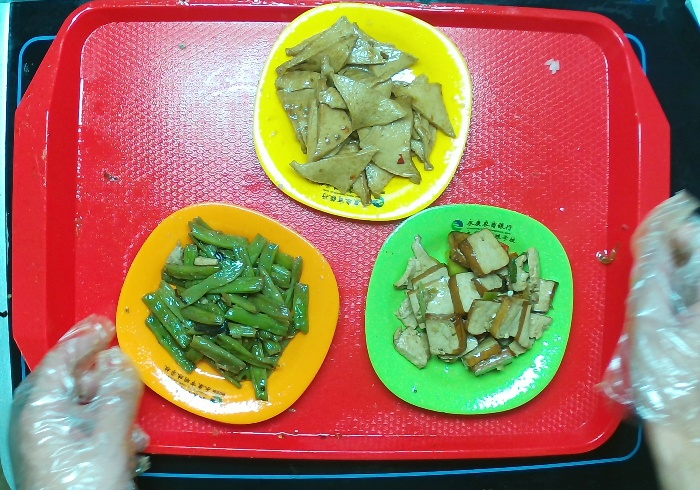YKMZ-Huang_Se_Fang_Die: (249, 4, 476, 223)
YKMZ-Ju_Se_Fang_Die: (112, 201, 341, 427)
YKMZ-Lv_Se_Fang_Die: (358, 201, 573, 420)
